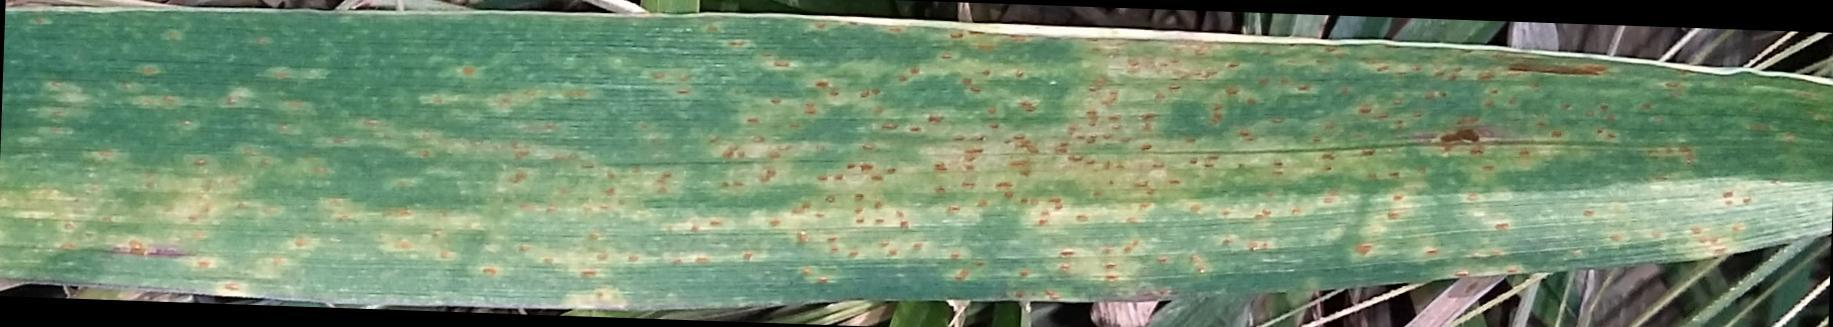Wheat: (666, 48, 955, 278), (970, 64, 1211, 284), (1225, 64, 1500, 255), (1521, 85, 1751, 235)
